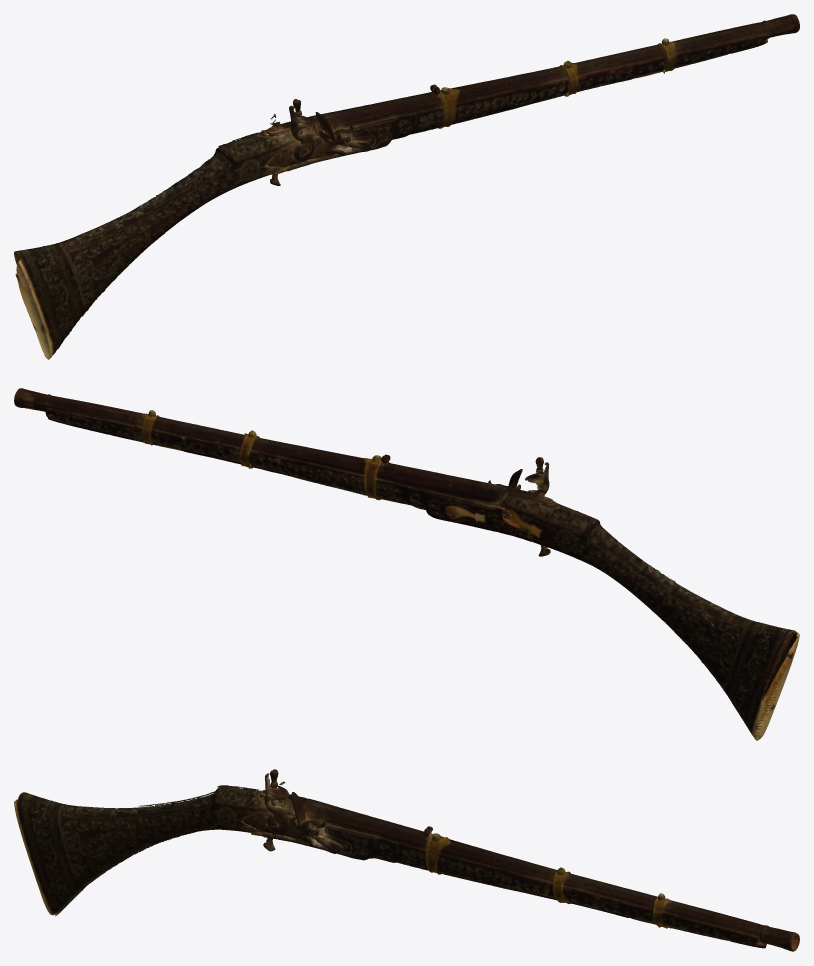
The model's file is flintlock_musket_12858.glb.
The picture shows the model from 3 angles, top to bottom: view 1: azimuth 30°, elevation 25°; view 2: azimuth 150°, elevation 25°; view 3: azimuth 330°, elevation 25°; orthographic projection.
Parts seen in each view (by area): view 1: Object_2, Object_3; view 2: Object_2, Object_3; view 3: Object_2, Object_3.
Part boxes in pixels (bbox=[...]): Object_2: bbox=[14, 14, 799, 359]; Object_3: bbox=[48, 39, 711, 359]; Object_2: bbox=[14, 388, 799, 740]; Object_3: bbox=[106, 408, 769, 738]; Object_2: bbox=[14, 784, 799, 951]; Object_3: bbox=[54, 769, 699, 930].
Size of the model in its own units: 997 by 262 by 64.49.
1 material, 1 textured.
